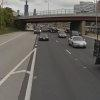Bridge: (17, 6, 91, 30)
